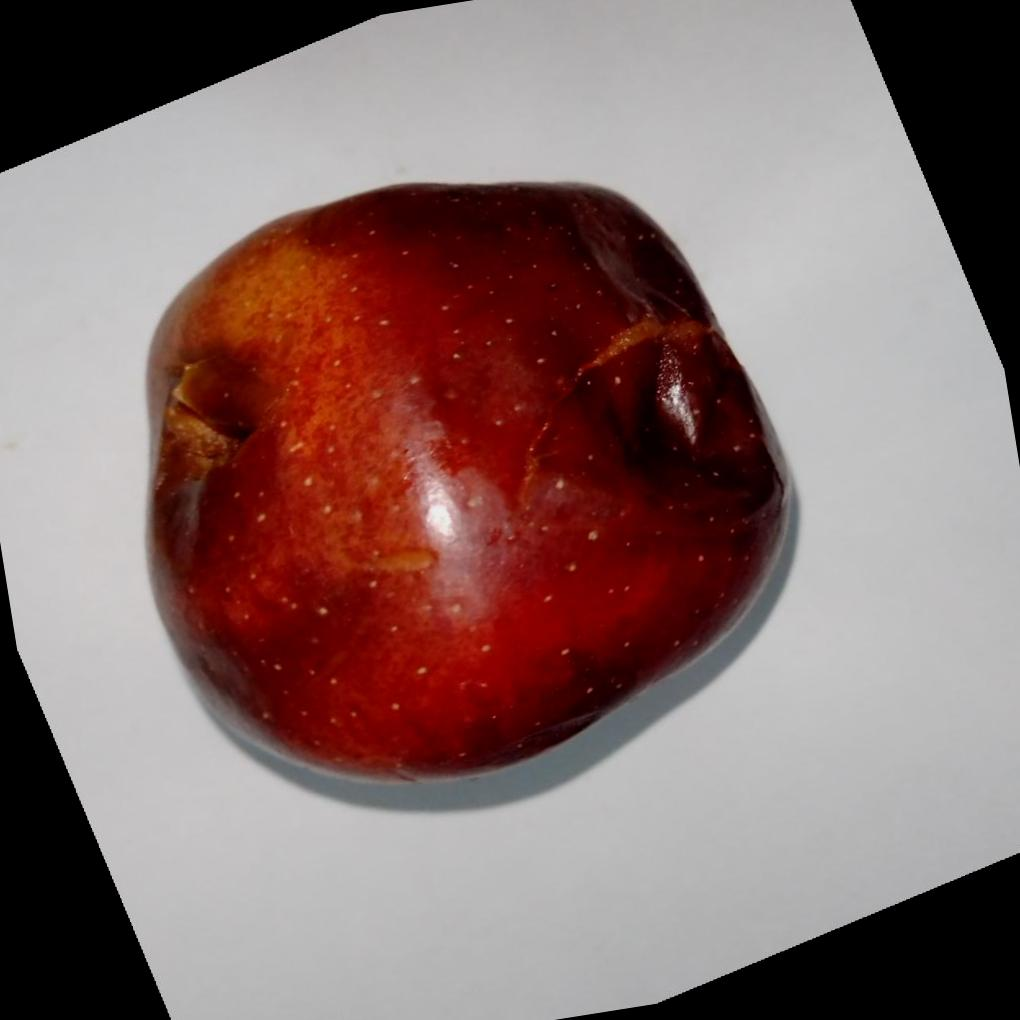FreshOrange: (139, 179, 796, 785)
